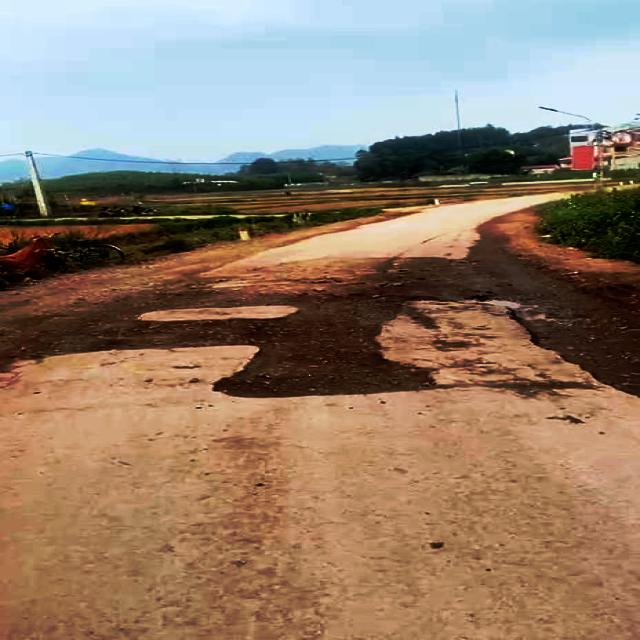pothole: (193, 314, 437, 399)
